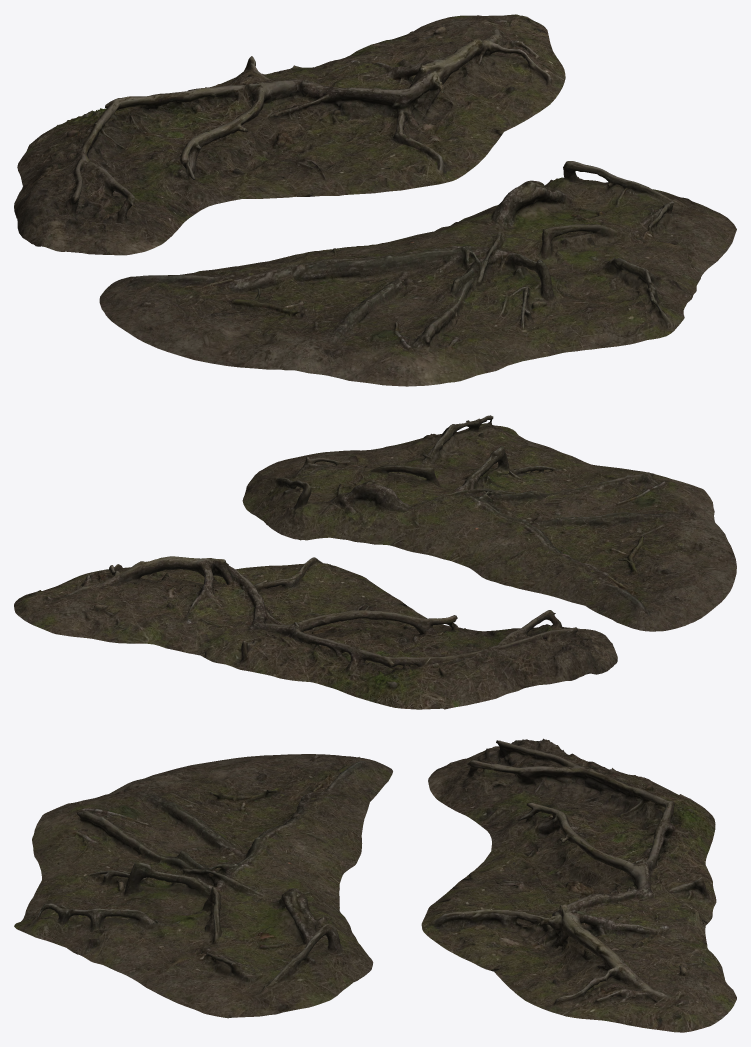
File: pine_roots_web.glb
3 views of the same model, one above another, from view 1: azimuth 30°, elevation 25°; view 2: azimuth 150°, elevation 25°; view 3: azimuth 270°, elevation 25° (orthographic). The views are drawn at different scales.
Parts seen in each view (by area): view 1: pine_roots_b, pine_roots_a; view 2: pine_roots_b, pine_roots_a; view 3: pine_roots_b, pine_roots_a.
Part boxes in pixels (box(x1,y1,x2,y2)): pine_roots_b: box(99, 161, 736, 386); pine_roots_a: box(14, 14, 565, 255); pine_roots_b: box(242, 415, 736, 631); pine_roots_a: box(14, 556, 617, 709); pine_roots_b: box(14, 754, 392, 1018); pine_roots_a: box(421, 738, 736, 1032).
Bounding box in the file's own units: 1.77 × 0.1548 × 1.89.
Materials: 2 (2 with a texture image).
